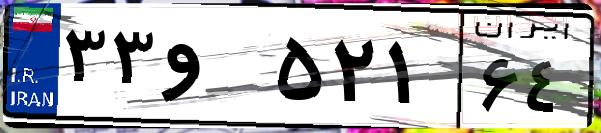1: (385, 28, 445, 110)
2: (330, 28, 385, 110)
3: (57, 26, 110, 100), (110, 28, 158, 98)
4: (525, 38, 570, 115)
5: (270, 28, 330, 110)
6: (475, 38, 525, 113)
و: (158, 20, 270, 120)
